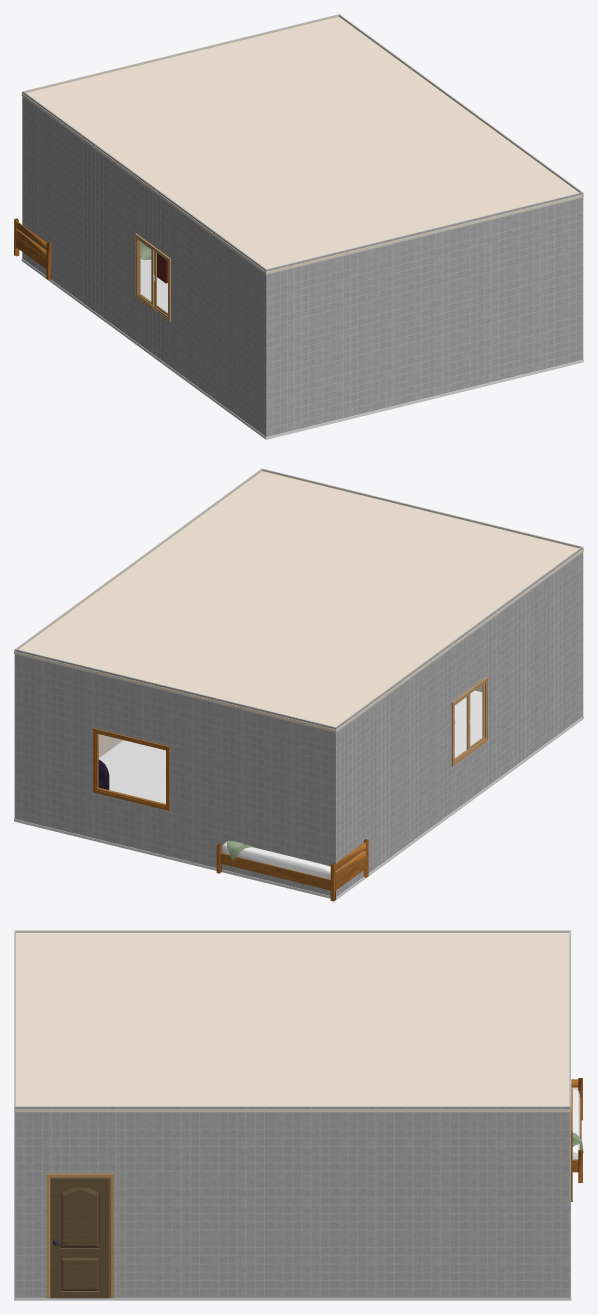
Rendered from ProcTHOR-Train-168.glb.
3 renders of one model, top to bottom at view 1: azimuth 30°, elevation 25°; view 2: azimuth 150°, elevation 25°; view 3: azimuth 270°, elevation 25°, orthographic. The views are drawn at different scales.
Parts seen in each view (by area): view 1: Ceiling#room|2|c, WallInside#wall|exterior|0.00|8.55|6.42|8.55, WallInside#wall|exterior|6.42|0.00|6.42|8.55, Floor#room|2|f, Bed_26_2, Window_Slider_48x48, WallInside#wall|2|0.00|0.00|6.42|0.00, WallInside#wall|2|0.00|0.00|0.00|8.55; view 2: Ceiling#room|2|c, WallInside#wall|exterior|0.00|0.00|6.42|0.00, WallInside#wall|exterior|6.42|0.00|6.42|8.55, Floor#room|2|f, Bed_26_2, Window_Fixed_60x48, Window_Slider_48x48, WallInside#wall|2|0.00|0.00|0.00|8.55, WallInside#wall|2|0.00|8.55|6.42|8.55; view 3: Ceiling#room|2|c, WallInside#wall|exterior|0.00|0.00|0.00|8.55, Doorway_6, Floor#room|2|f, WallInside#wall|2|6.42|0.00|6.42|8.55, Bed_26_2, WallInside#wall|2|0.00|0.00|0.00|8.55, WallInside#wall|exterior|6.42|0.00|6.42|8.55, WallInside#wall|exterior|0.00|8.55|6.42|8.55.
Boxes of the visible parts, left/top/right/bottom form: Ceiling#room|2|c: left=21, top=16, right=583, bottom=274; WallInside#wall|exterior|0.00|8.55|6.42|8.55: left=266, top=192, right=583, bottom=436; WallInside#wall|exterior|6.42|0.00|6.42|8.55: left=22, top=91, right=266, bottom=436; Floor#room|2|f: left=21, top=258, right=583, bottom=439; Bed_26_2: left=14, top=218, right=151, bottom=279; Window_Slider_48x48: left=135, top=233, right=170, bottom=321; WallInside#wall|2|0.00|0.00|6.42|0.00: left=24, top=14, right=339, bottom=92; WallInside#wall|2|0.00|0.00|0.00|8.55: left=339, top=14, right=581, bottom=192; Ceiling#room|2|c: left=14, top=471, right=583, bottom=732; WallInside#wall|exterior|0.00|0.00|6.42|0.00: left=14, top=649, right=335, bottom=895; WallInside#wall|exterior|6.42|0.00|6.42|8.55: left=336, top=547, right=583, bottom=896; Floor#room|2|f: left=14, top=690, right=583, bottom=899; Bed_26_2: left=216, top=839, right=368, bottom=901; Window_Fixed_60x48: left=93, top=728, right=169, bottom=810; Window_Slider_48x48: left=451, top=677, right=487, bottom=766; WallInside#wall|2|0.00|0.00|0.00|8.55: left=16, top=469, right=262, bottom=757; WallInside#wall|2|0.00|8.55|6.42|8.55: left=261, top=468, right=582, bottom=691; Ceiling#room|2|c: left=14, top=932, right=571, bottom=1111; WallInside#wall|exterior|0.00|0.00|0.00|8.55: left=14, top=1106, right=570, bottom=1297; Doorway_6: left=46, top=1173, right=113, bottom=1298; Floor#room|2|f: left=14, top=1121, right=571, bottom=1300; WallInside#wall|2|6.42|0.00|6.42|8.55: left=16, top=930, right=570, bottom=932; Bed_26_2: left=571, top=1078, right=583, bottom=1182; WallInside#wall|2|0.00|0.00|0.00|8.55: left=15, top=1106, right=570, bottom=1106; WallInside#wall|exterior|6.42|0.00|6.42|8.55: left=16, top=930, right=568, bottom=930; WallInside#wall|exterior|0.00|8.55|6.42|8.55: left=14, top=930, right=15, bottom=1296.
Bounding box in the file's own units: 6.61 × 3.29 × 8.79.
Materials: 95 (41 with a texture image).
